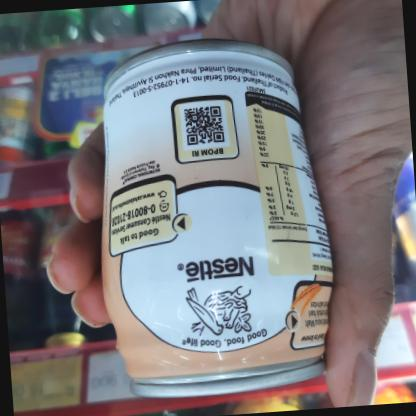alumunium_can: (68, 25, 349, 416)
